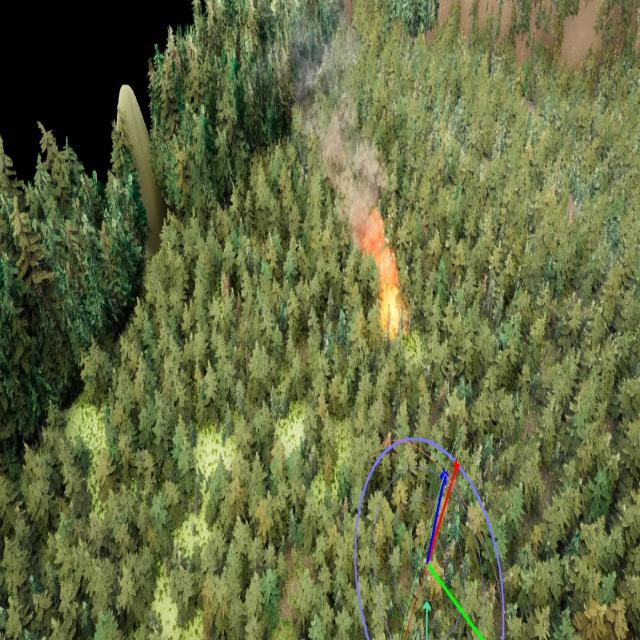fire: (376, 257, 407, 349)
smoke: (294, 69, 387, 258)
